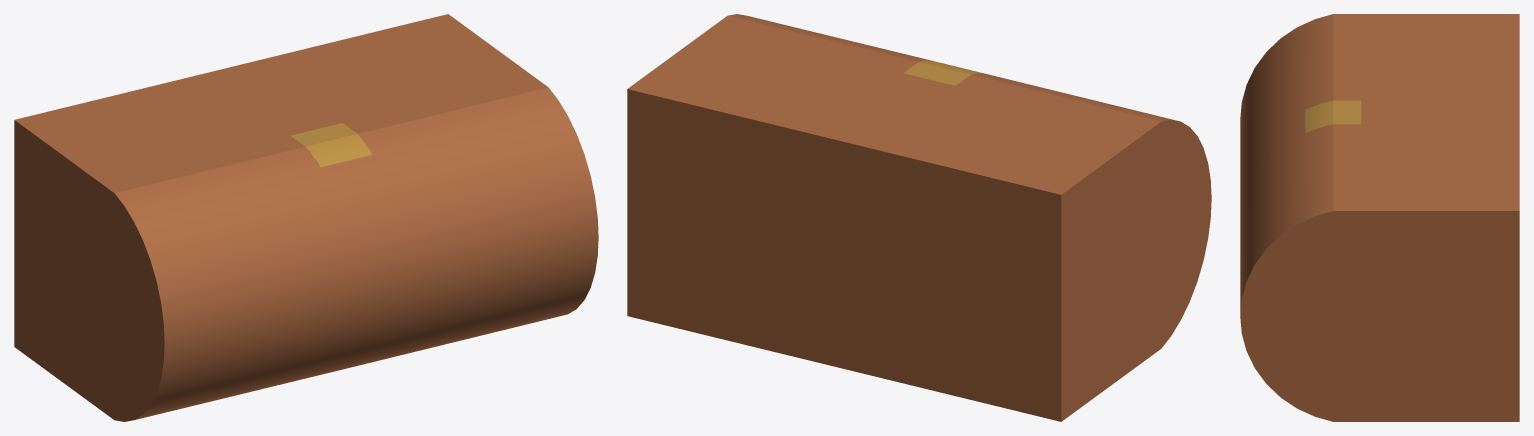
The model's file is Bau tcc_.fbx.
3 views of the same model, side by side, from view 1: azimuth 30°, elevation 25°; view 2: azimuth 150°, elevation 25°; view 3: azimuth 270°, elevation 25° (orthographic). The views are drawn at different scales.
Parts seen in each view (by area): view 1: Body2, Body1, Body4; view 2: Body1, Body2, Body4; view 3: Body1, Body2, Body4.
Part boxes in pixels (<box>): Body2: <box>114,87,598,421</box>; Body1: <box>14,14,547,419</box>; Body4: <box>291,123,372,167</box>; Body1: <box>627,15,1161,421</box>; Body2: <box>728,14,1211,347</box>; Body4: <box>904,60,984,85</box>; Body1: <box>1333,14,1519,421</box>; Body2: <box>1240,14,1333,421</box>; Body4: <box>1305,100,1361,133</box>.
Size of the model in its own units: 50 by 25 by 30.
